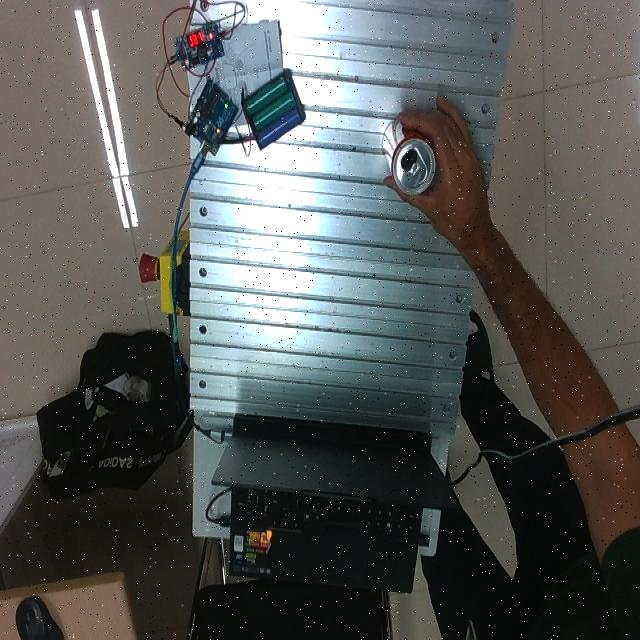coca: (381, 115, 439, 196)
